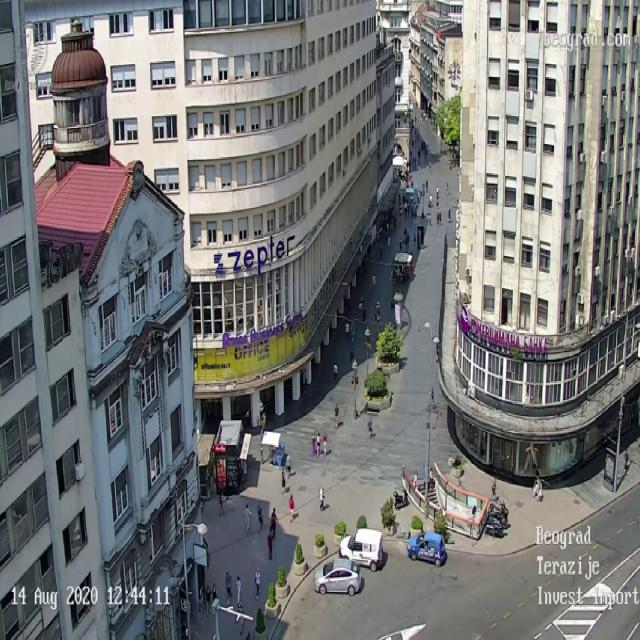car: (313, 557, 361, 596), (344, 525, 384, 570), (407, 530, 447, 566)
